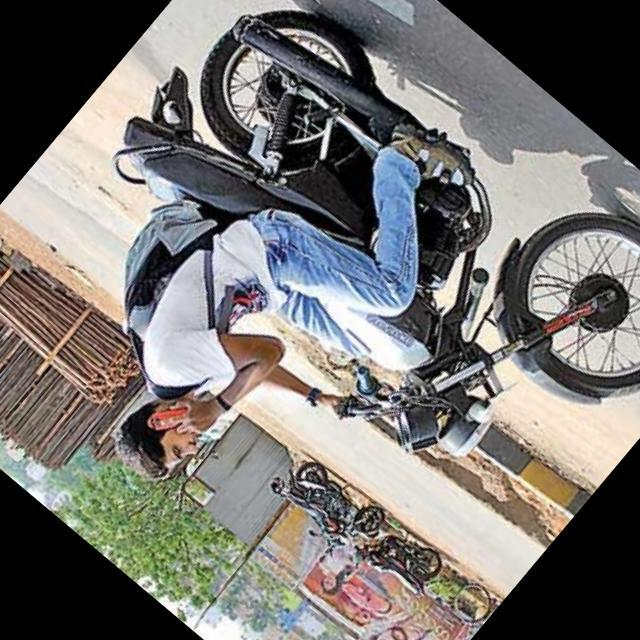USING_MOBILE: (134, 306, 290, 472)
